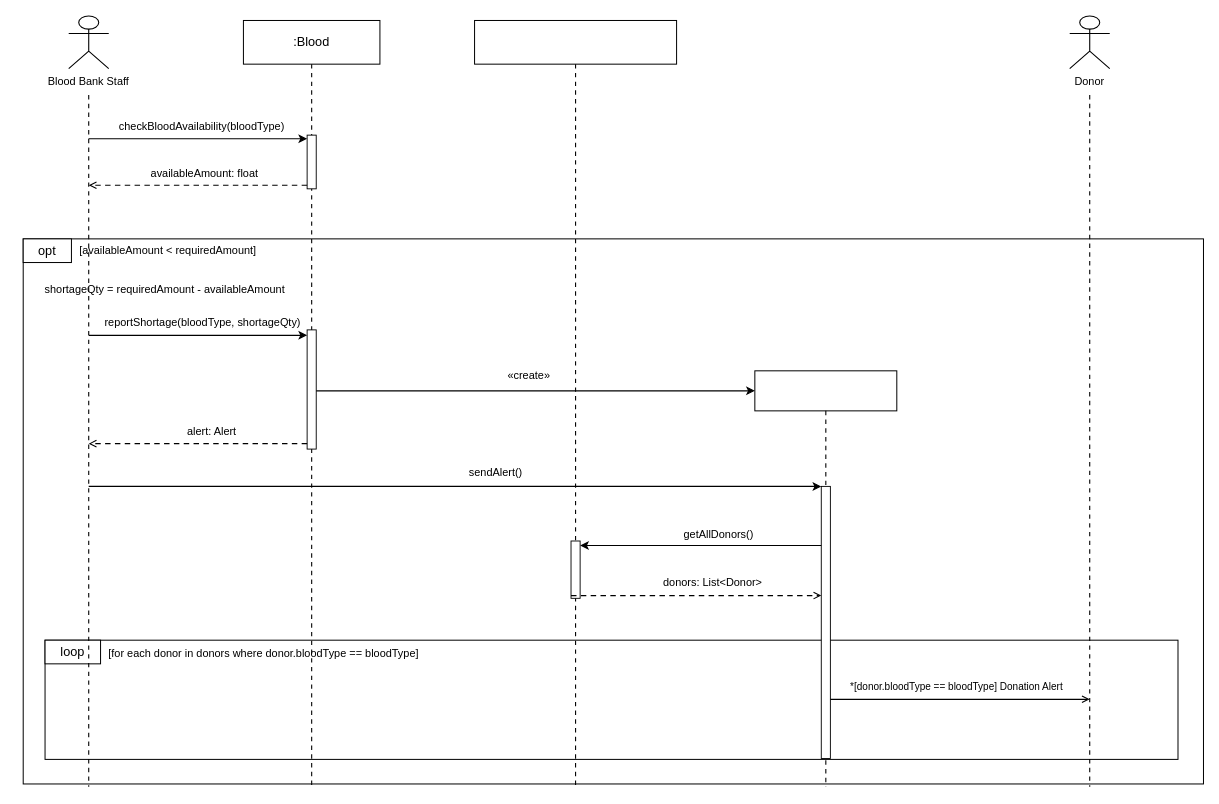
This 1219x804 diagram has some shape labels left out. Here are the shapes that lost their labels. From the top down, the box of each, then its label:
(474, 20, 677, 64): :DonorManagement
(754, 370, 897, 411): :Alert
